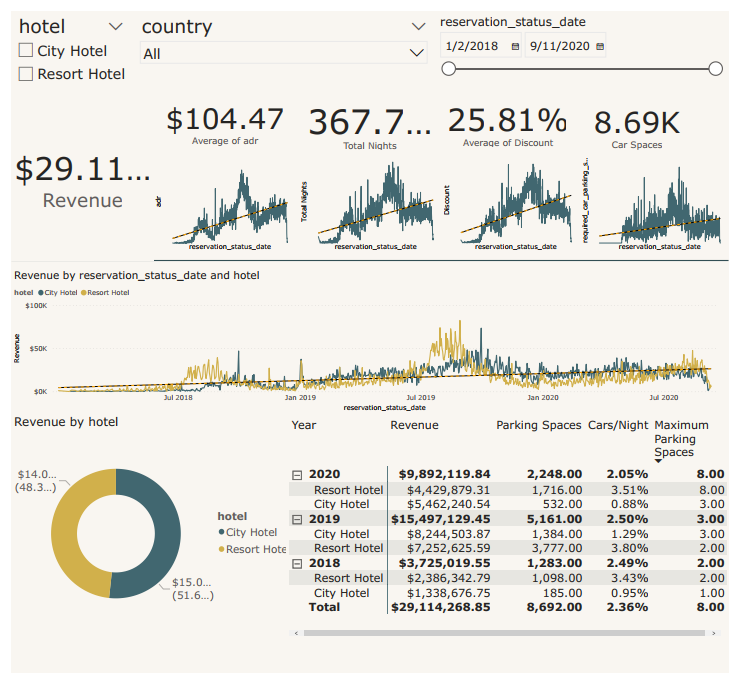

What the dashboard file says about the page in this screenshot:
{"tool":"powerbi","page":{"name":"Page 1","canvas":[1280,1180],"ordinal":0},"visuals":[{"type":"shape","box":[0,415,1280,59],"z":0},{"type":"card","fields":{"Values":["Sum(Query1.Revenue)"]},"box":[0,149.4,254.5,295.1],"z":1000},{"type":"card","fields":{"Values":["Avg(Query1.adr)"]},"box":[253.9,149,253.9,97.3],"z":2000},{"type":"card","fields":{"Values":["Query1.Total Nights"]},"box":[512.7,153.1,254.5,97.8],"z":3000},{"type":"card","fields":{"Values":["Avg(Query1.Discount)"]},"box":[760.1,153.5,253.9,92.7],"z":4000},{"type":"lineChart","fields":{"Category":["Query1.reservation_status_date"],"Y":["Sum(Query1.Revenue)"],"Series":["Query1.hotel"]},"box":[0,459.3,1280,260.1],"z":5000},{"type":"slicer","fields":{"Values":["Query1.country"]},"box":[219.5,0,533,153.1],"z":6000},{"type":"slicer","fields":{"Values":["Query1.hotel"]},"box":[0,0,212.1,158.6],"z":7000},{"type":"lineChart","fields":{"Category":["Query1.reservation_status_date"],"Y":["Sum(Query1.adr)"]},"box":[252.7,250.8,254.5,180.7],"z":8000},{"type":"lineChart","fields":{"Category":["Query1.reservation_status_date"],"Y":["Query1.Total Nights"]},"box":[512.7,250.8,254.5,180.7],"z":9000},{"type":"lineChart","fields":{"Category":["Query1.reservation_status_date"],"Y":["Sum(Query1.required_car_parking_spaces)"]},"box":[1014.4,245.3,265.6,186.3],"z":10000},{"type":"card","fields":{"Values":["Sum(Query1.required_car_parking_spaces)"]},"box":[990.4,158.6,252.7,92.2],"z":11000},{"type":"lineChart","fields":{"Category":["Query1.reservation_status_date"],"Y":["Sum(Query1.Discount)"]},"box":[767.3,247.1,247.1,184.4],"z":12000},{"type":"donutChart","fields":{"Category":["Query1.hotel"],"Y":["Sum(Query1.Revenue)"]},"box":[0,719.3,512.7,400.2],"z":13000},{"type":"pivotTable","fields":{"Rows":["Query1.reservation_status_date.Variation.Date Hierarchy.Year","Query1.hotel"],"Values":["Sum(Query1.Revenue)","Sum(Query1.required_car_parking_spaces)","Query1.Cars/Night","Query1.Maximum Parking Spaces"]},"box":[490.1,719.6,789.8,399.6],"z":14000},{"type":"slicer","fields":{"Values":["Query1.reservation_status_date"]},"box":[752.5,0,527.5,158.6],"z":15000}]}

Visuals, with their boxes in screenshot pixels (x1, y1, x2, y2), scaled from the page's 1280x1180 canvas onto the 739x684 screenshot:
shape: Rect(0, 241, 738, 275)
card - Sum(Query1.Revenue): Rect(0, 87, 147, 258)
card - Avg(Query1.adr): Rect(147, 86, 293, 143)
card - Query1.Total Nights: Rect(296, 89, 443, 145)
card - Avg(Query1.Discount): Rect(439, 89, 585, 143)
lineChart - Query1.reservation_status_date x Sum(Query1.Revenue): Rect(0, 266, 738, 417)
slicer - Query1.country: Rect(127, 0, 434, 89)
slicer - Query1.hotel: Rect(0, 0, 122, 92)
lineChart - Query1.reservation_status_date x Sum(Query1.adr): Rect(146, 145, 293, 250)
lineChart - Query1.reservation_status_date x Query1.Total Nights: Rect(296, 145, 443, 250)
lineChart - Query1.reservation_status_date x Sum(Query1.required_car_parking_spaces): Rect(586, 142, 738, 250)
card - Sum(Query1.required_car_parking_spaces): Rect(572, 92, 718, 145)
lineChart - Query1.reservation_status_date x Sum(Query1.Discount): Rect(443, 143, 586, 250)
donutChart - Query1.hotel x Sum(Query1.Revenue): Rect(0, 417, 296, 649)
pivotTable - Query1.reservation_status_date.Variation.Date Hierarchy.Year x Query1.hotel: Rect(283, 417, 738, 649)
slicer - Query1.reservation_status_date: Rect(434, 0, 738, 92)
